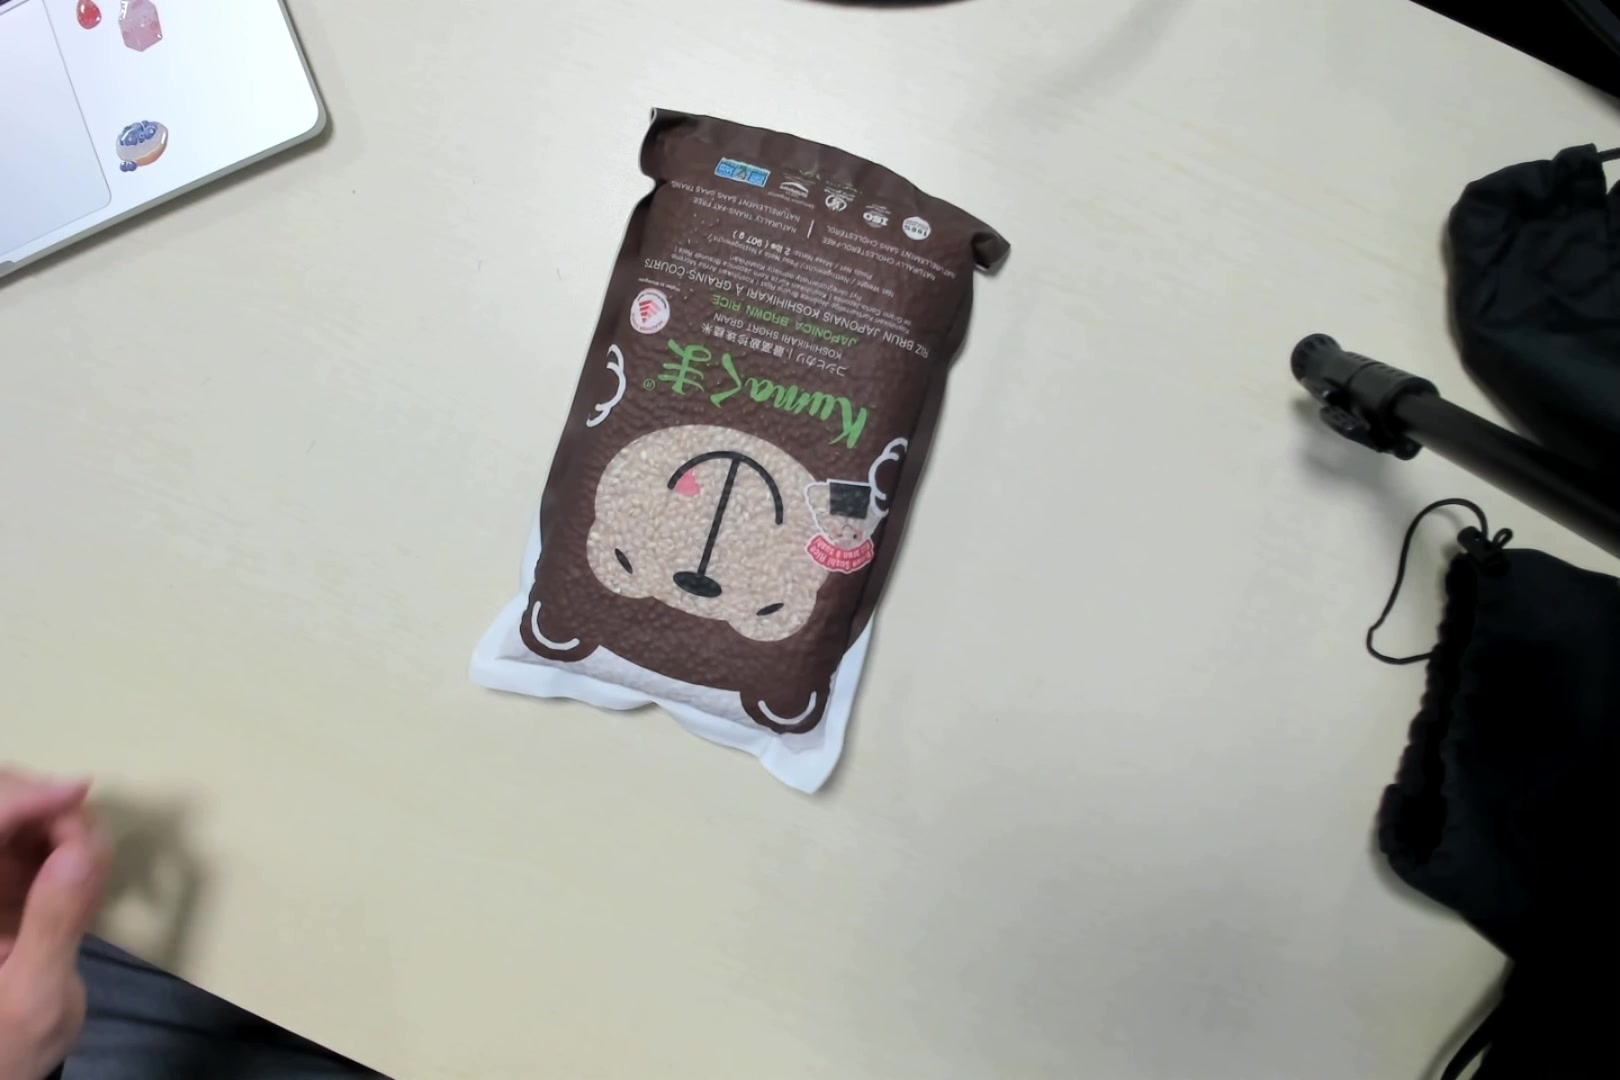Rice(BrownOthers)_500-599g_NonHalal_Healthy: (507, 115, 987, 756)
